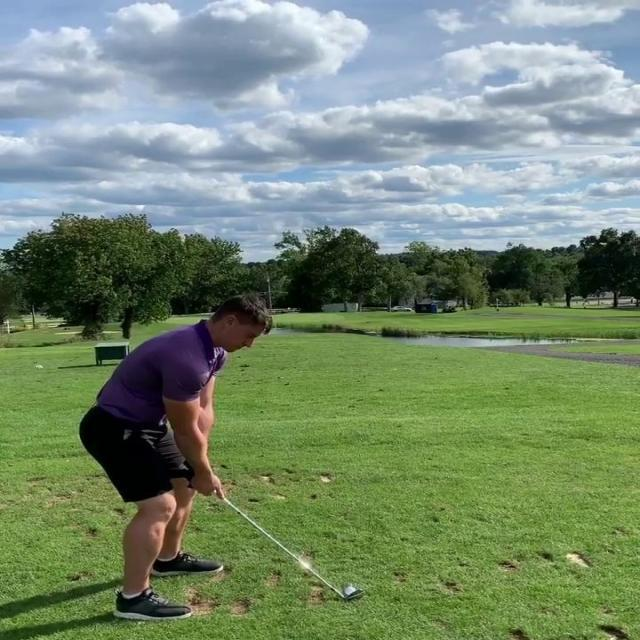ClubHead: (343, 586, 363, 600)
GolfBall: (345, 584, 355, 594)
